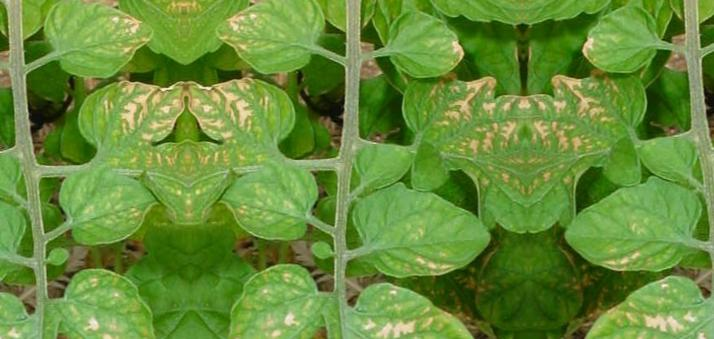Tomato leaf bacterial spot: (185, 48, 327, 331), (361, 76, 529, 283), (342, 180, 493, 297), (336, 267, 521, 339), (217, 0, 352, 78), (217, 260, 329, 339), (371, 1, 472, 86), (401, 0, 524, 57), (236, 327, 492, 339)
